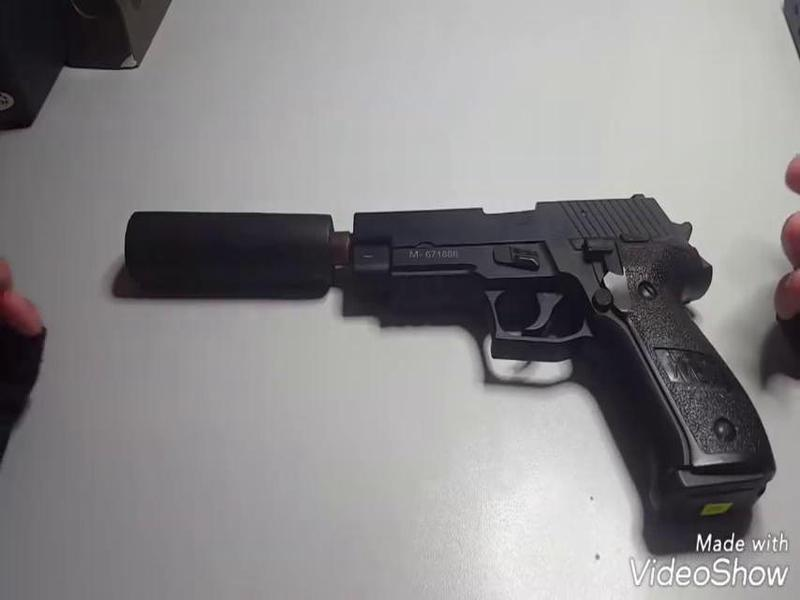Pistola: (116, 135, 787, 498)
